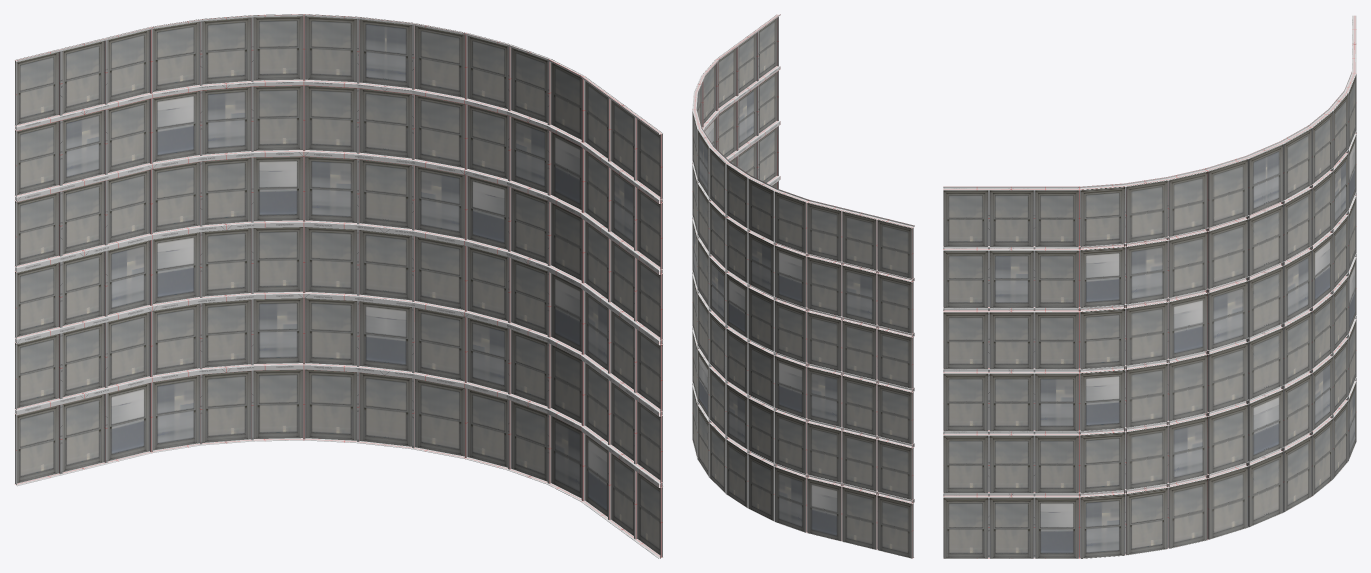
File: M_06_3x_b_round_a.FBX
3 renders of one model, left to right at view 1: azimuth 30°, elevation 25°; view 2: azimuth 150°, elevation 25°; view 3: azimuth 270°, elevation 25°, orthographic. The views are drawn at different scales.
Visible parts, largest first — view 1: b_05_3x_b_round; view 2: b_05_3x_b_round; view 3: b_05_3x_b_round.
Part boxes in pixels (x1,y1,x2,y2): b_05_3x_b_round: (14, 14, 663, 558); b_05_3x_b_round: (692, 14, 914, 558); b_05_3x_b_round: (943, 15, 1356, 558).
Bounding box in the file's own units: 60.71 × 60.71 × 60.04.
